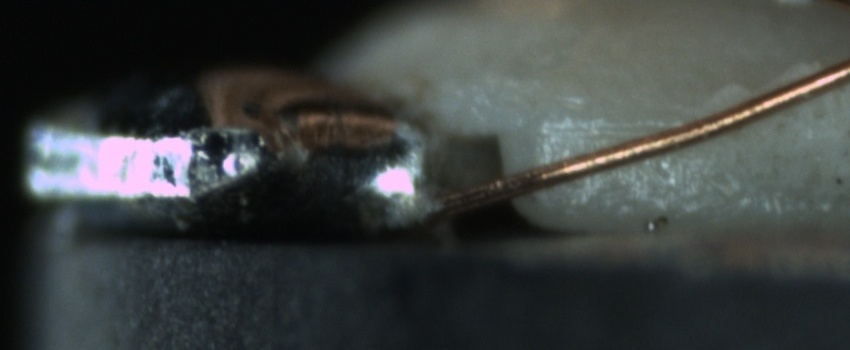DL: (543, 100, 685, 158)
